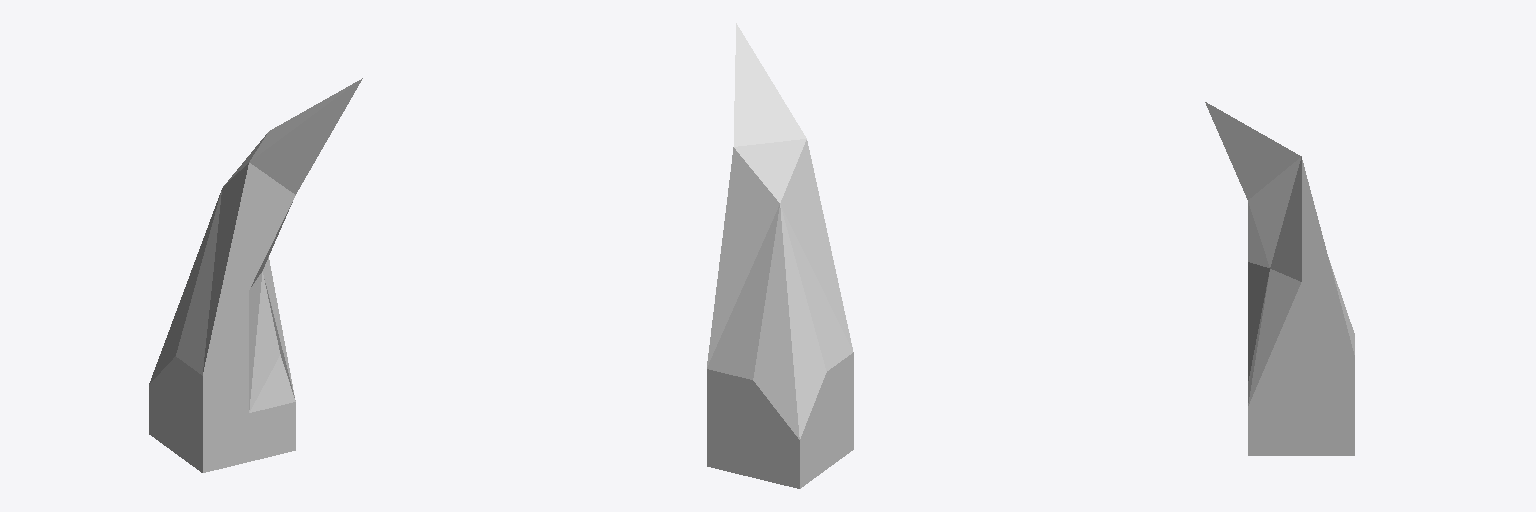
File: Rock8.obj
3 views of the same model, side by side, from view 1: azimuth 30°, elevation 25°; view 2: azimuth 150°, elevation 25°; view 3: azimuth 270°, elevation 25° (orthographic).
Visible parts, largest first — view 1: pCube3; view 2: pCube3; view 3: pCube3.
Boxes of the visible parts, box(x1,y1,x2,y2) form: pCube3: box(149, 78, 362, 472); pCube3: box(707, 23, 853, 488); pCube3: box(1205, 102, 1354, 455).
Size of the model in its own units: 7.78 by 20.17 by 7.31.